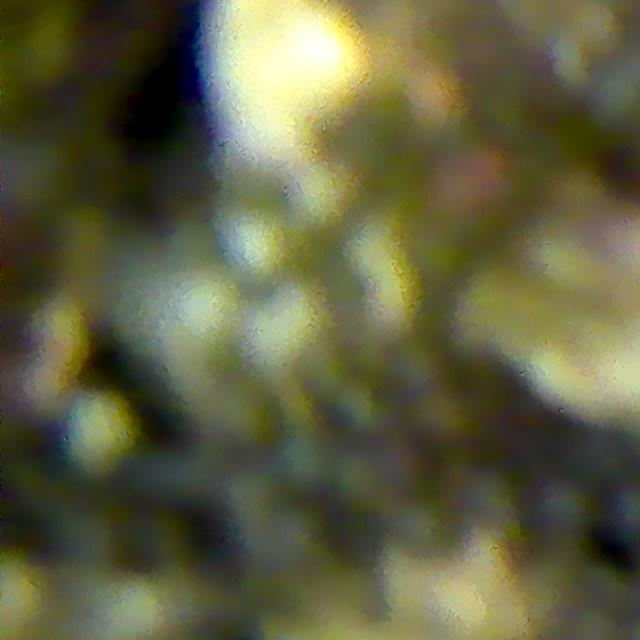SeaGrape: (136, 263, 245, 375), (221, 198, 296, 283), (289, 159, 355, 230), (530, 477, 593, 540)
